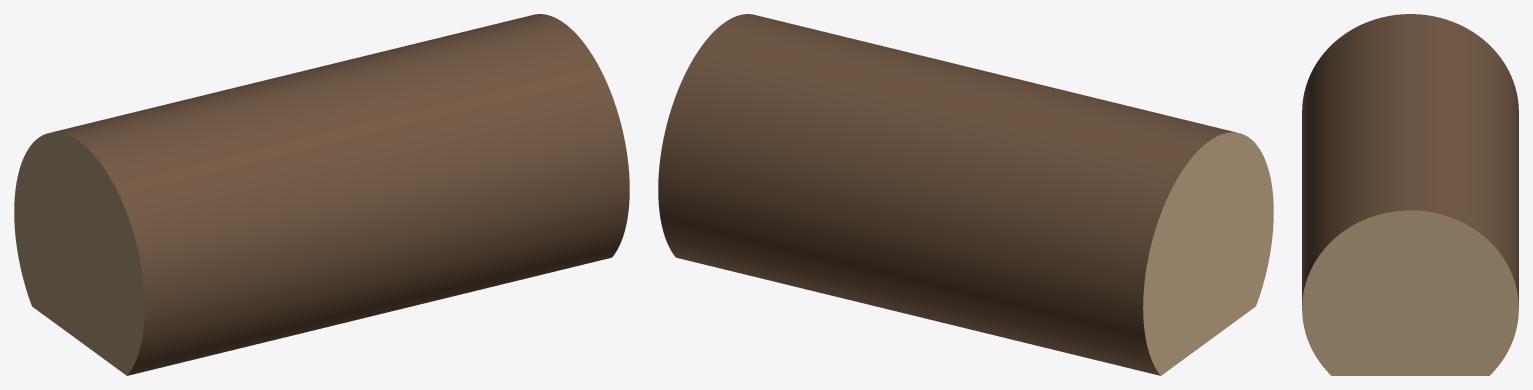
The model's file is SM_RawLog_75_Hewn1.fbx.
3 views of the same model, side by side, from view 1: azimuth 30°, elevation 25°; view 2: azimuth 150°, elevation 25°; view 3: azimuth 270°, elevation 25° (orthographic). The views are drawn at different scales.
Parts seen in each view (by area): view 1: RawLog_75_Hewn1; view 2: RawLog_75_Hewn1; view 3: RawLog_75_Hewn1.
Part boxes in pixels (x1=…): RawLog_75_Hewn1: x1=14, y1=14, x2=629, y2=375; RawLog_75_Hewn1: x1=658, y1=14, x2=1273, y2=375; RawLog_75_Hewn1: x1=1302, y1=14, x2=1518, y2=375.
Size of what is drawn, in the model's own units: 0.75 by 0.295 by 0.35.
